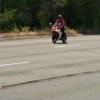Motorcycle: (47, 21, 71, 47)
